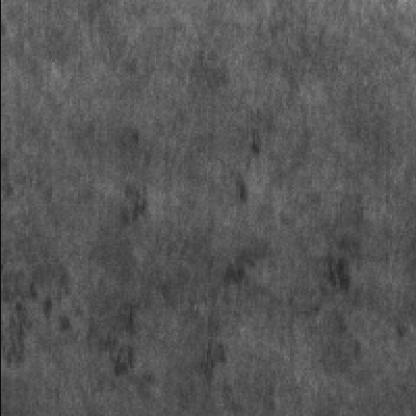rolled-in_scale: (6, 245, 266, 383), (308, 246, 362, 376)
